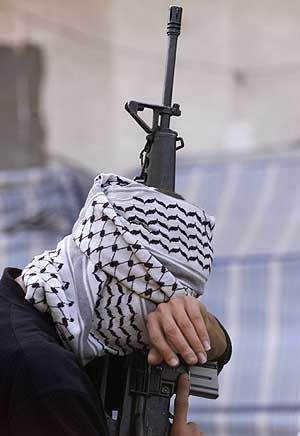heavyweapon: (92, 0, 251, 436)
